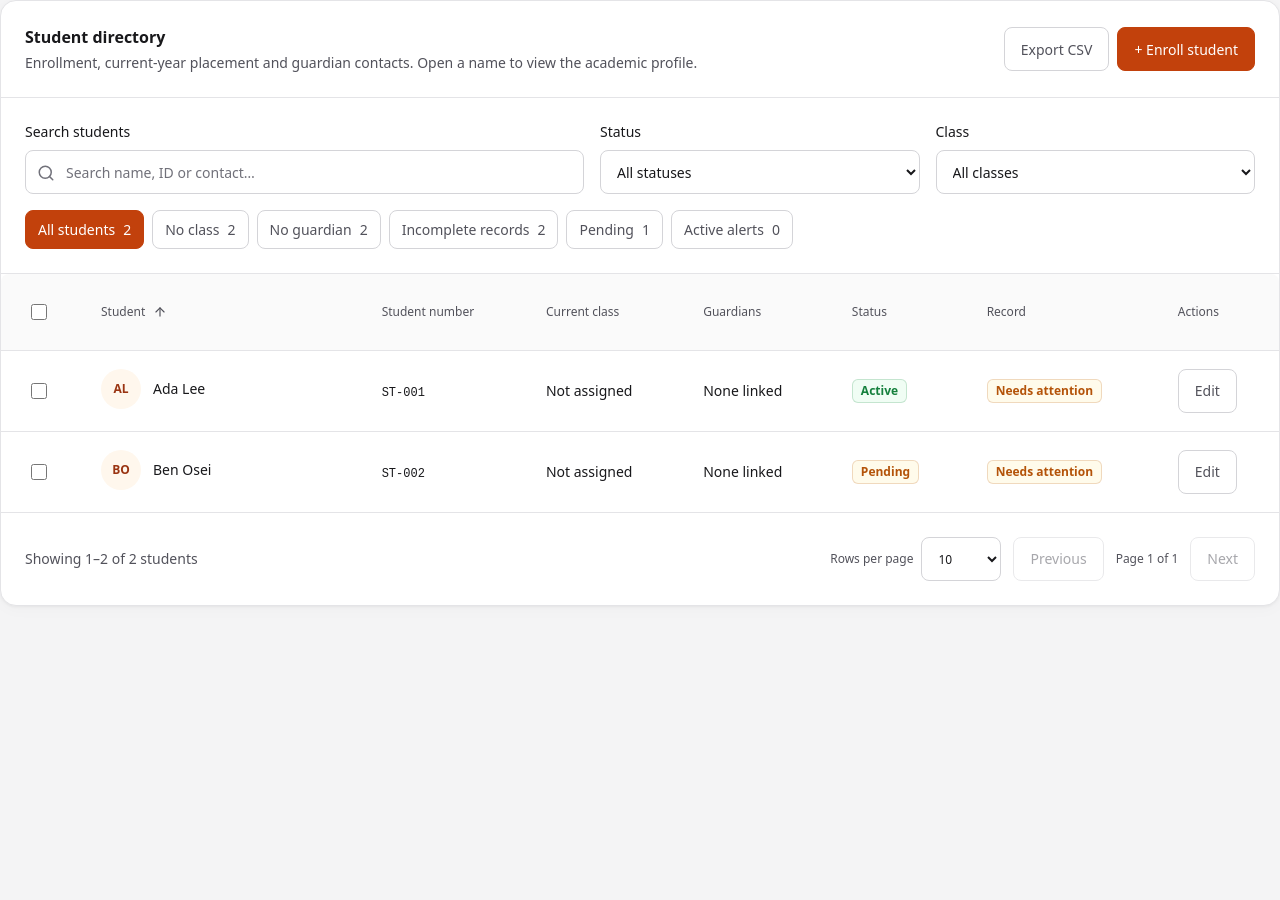
Test case: administrator directory integration › updates the selected IDs through the existing action and keeps success feedback after clearing selection
The image size is (1280, 900).
Click the checkbox named "Select all visible students" at (39, 312), box [31,304,47,320]
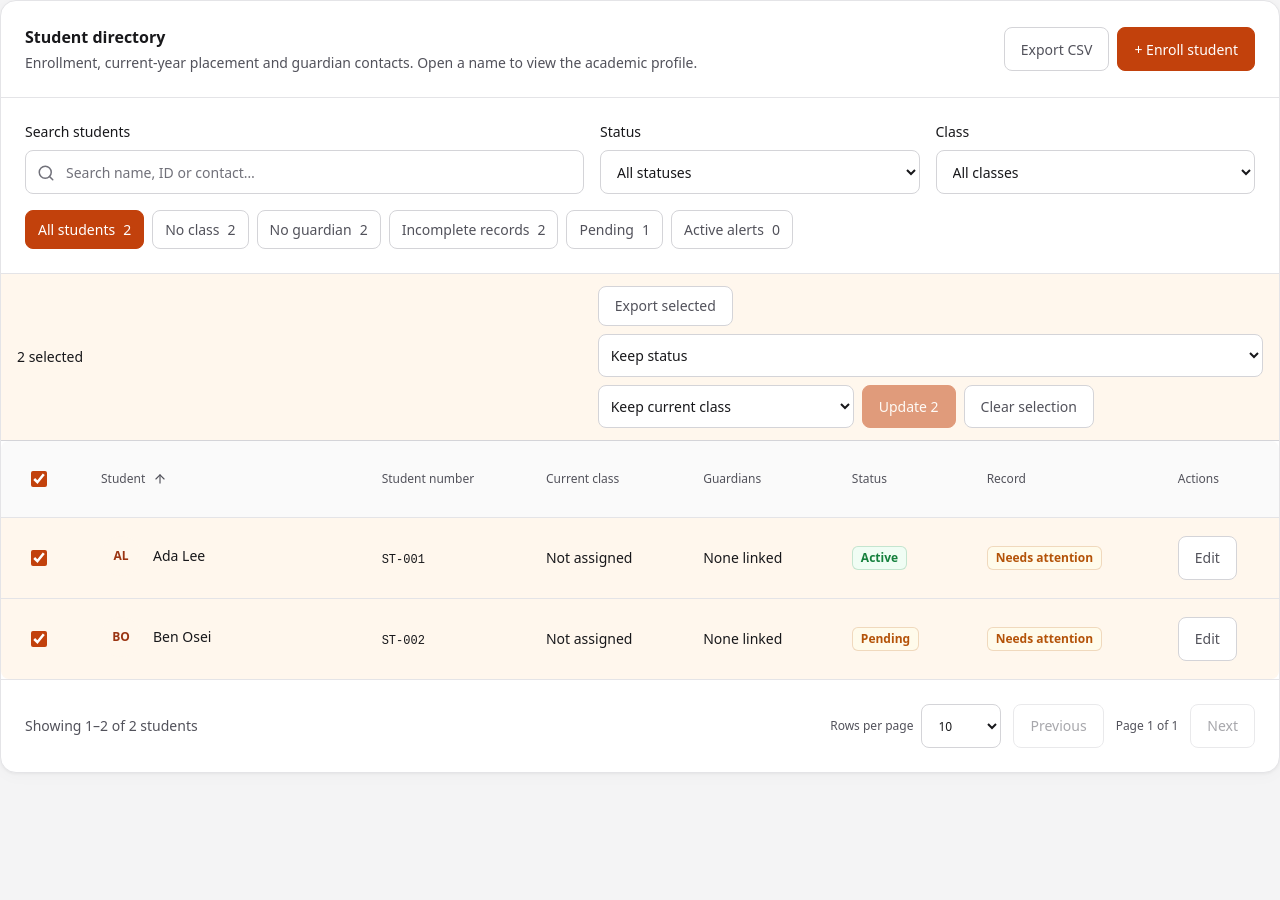
Select "Active" in the dropdown named "Set selected students’ status" at (930, 356), box [598,334,1263,377]
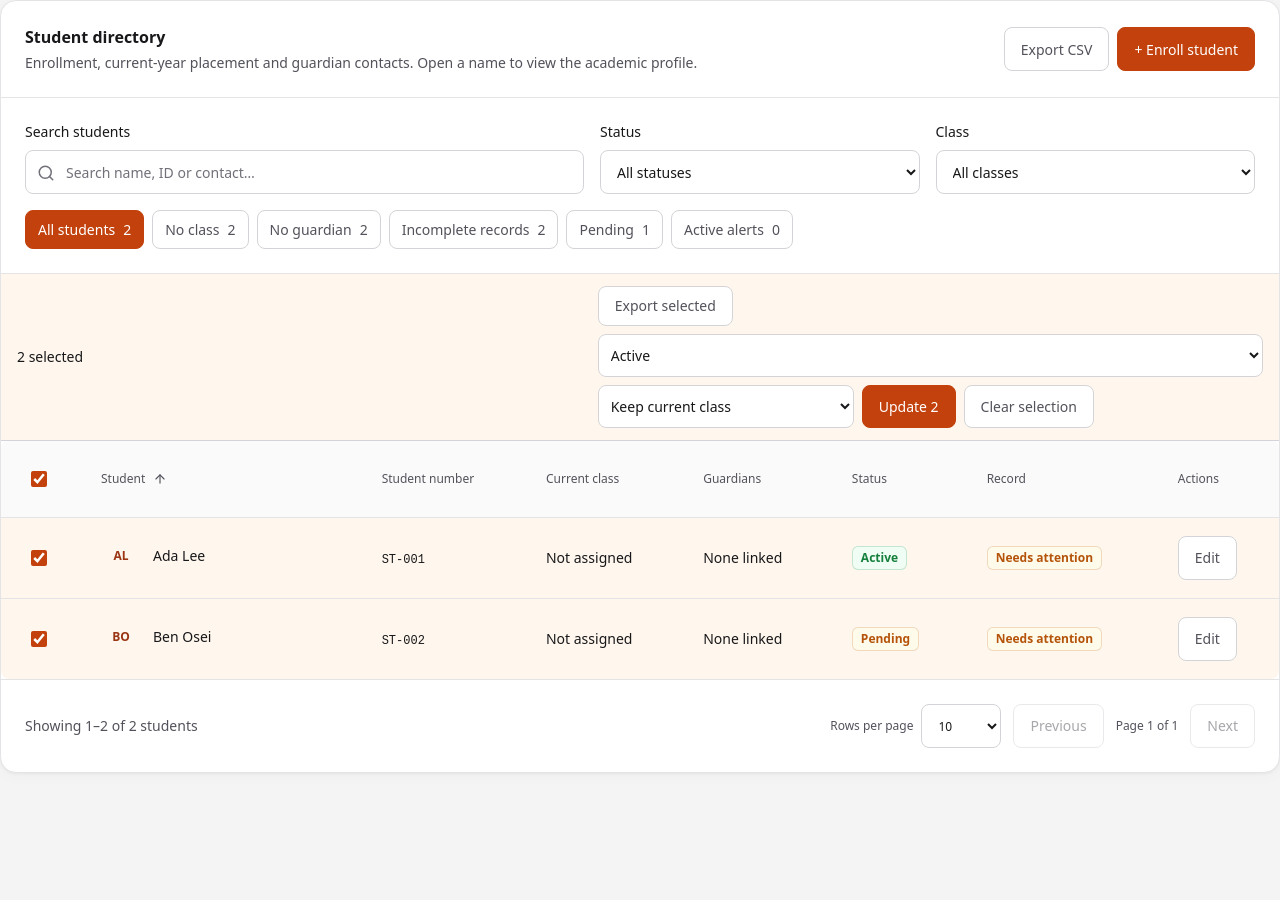
Click the button "Update 2" at (909, 406), box [862,385,956,428]
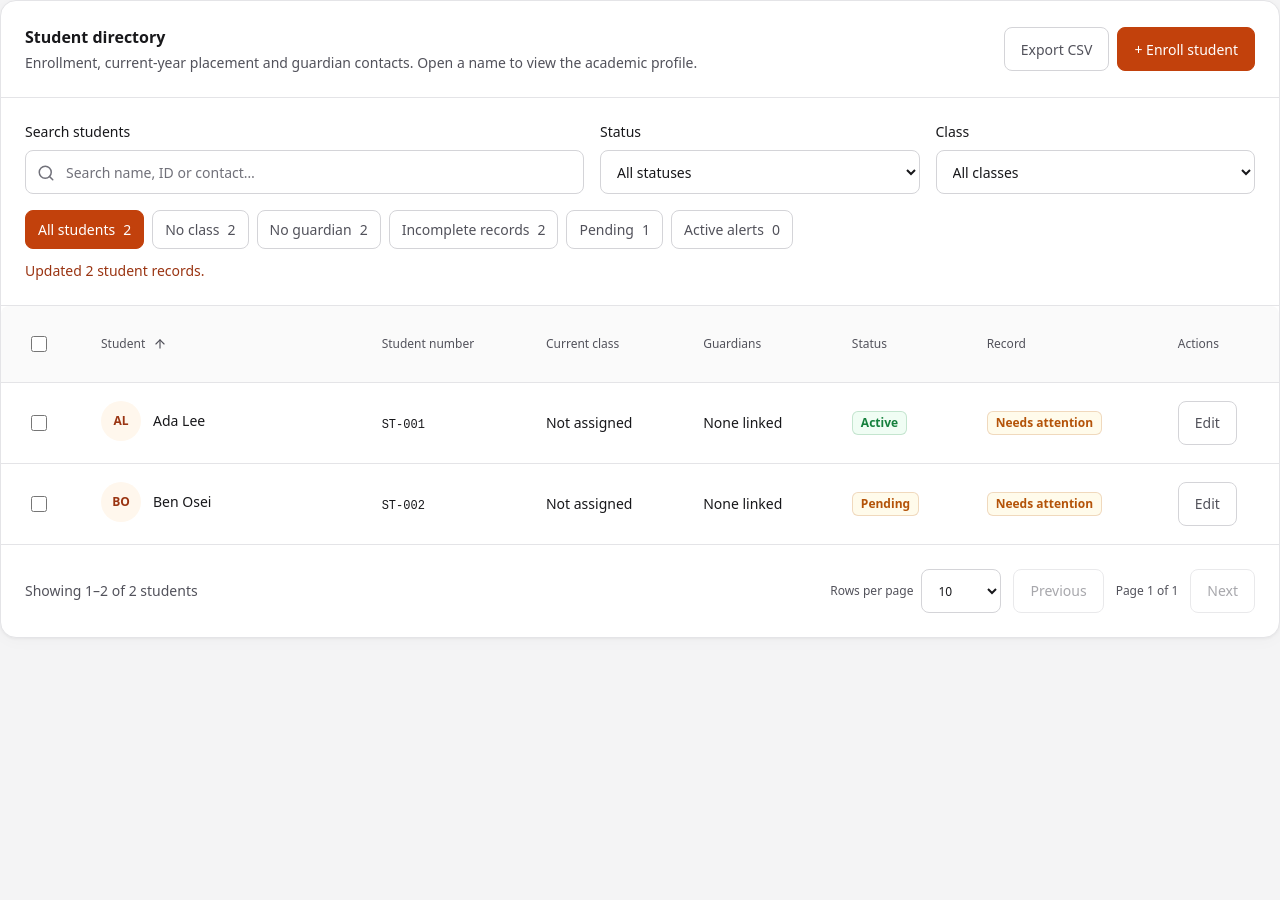
Result: the text "Updated 2 student records." is shown at [25,261,205,280]
Result: the button "Clear selection" is gone
